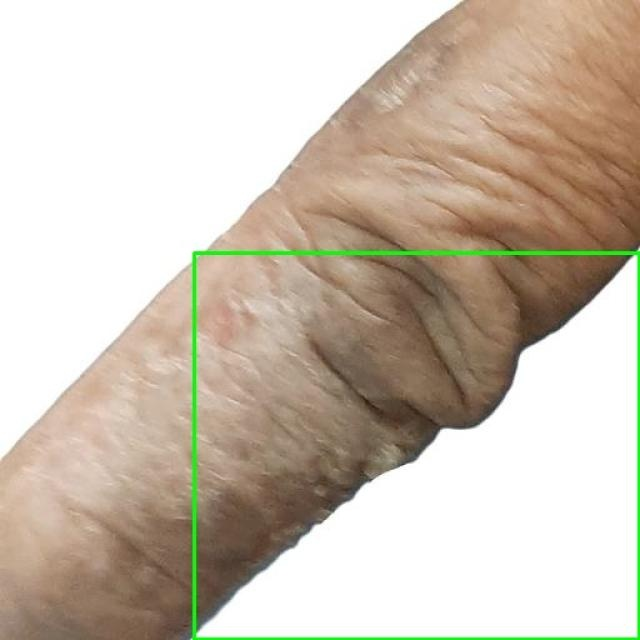Eczema: (194, 252, 639, 639)
